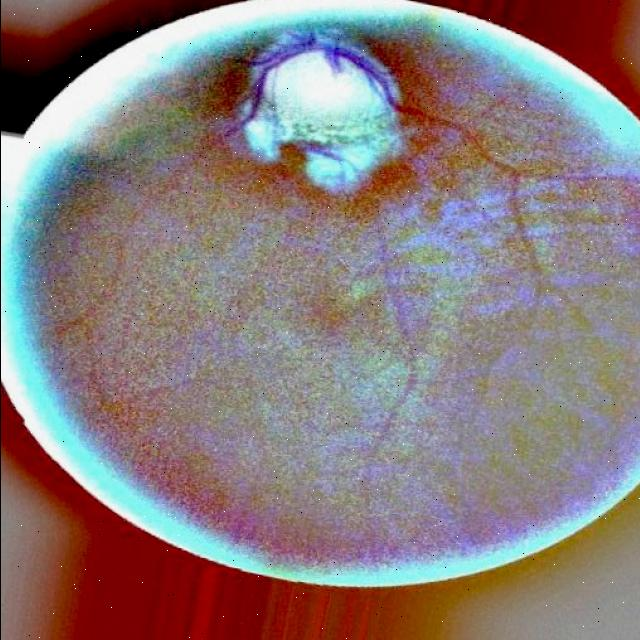Macula: (297, 295, 353, 344)
Nerves: (336, 48, 640, 344), (36, 50, 332, 346), (360, 183, 415, 562)
Optic Disk: (244, 37, 401, 199)
